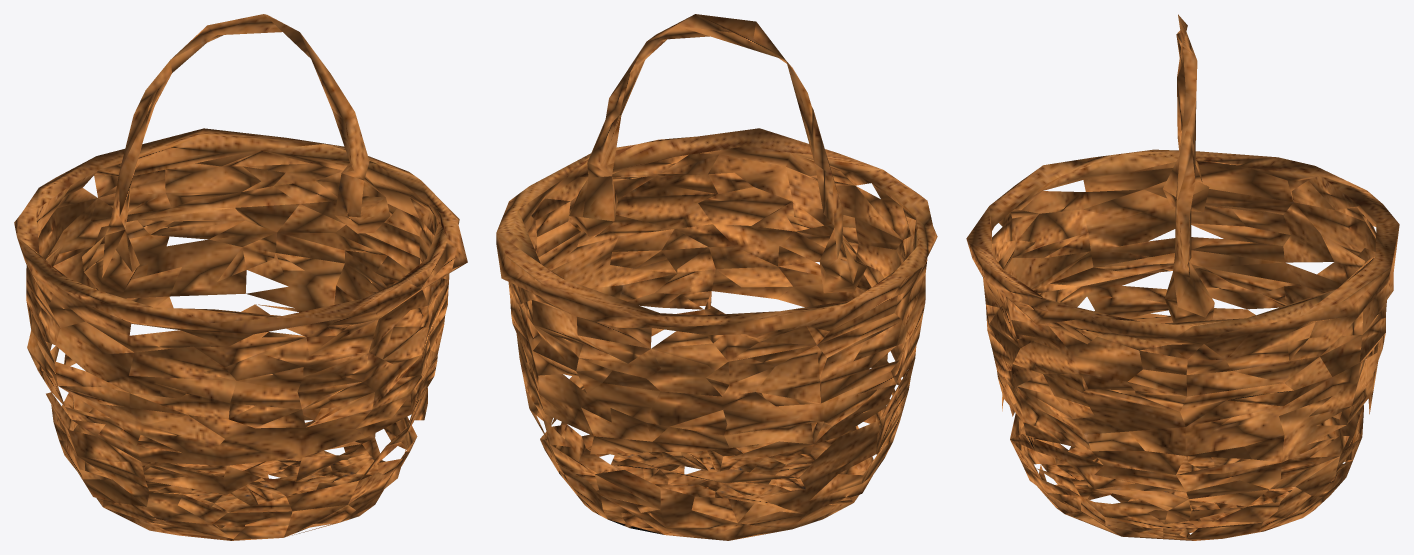
Rendered from basket.glb.
3 renders of one model, left to right at view 1: azimuth 30°, elevation 25°; view 2: azimuth 150°, elevation 25°; view 3: azimuth 270°, elevation 25°, orthographic. The views are drawn at different scales.
Visible parts, largest first — view 1: Mesh_0.001; view 2: Mesh_0.001; view 3: Mesh_0.001.
Part boxes in pixels (x1,y1,x2,y2): Mesh_0.001: [14, 14, 467, 540]; Mesh_0.001: [496, 14, 937, 540]; Mesh_0.001: [966, 14, 1399, 540].
Size of the model in its own units: 1.59 by 1.87 by 1.61.
1 material, 1 textured.
